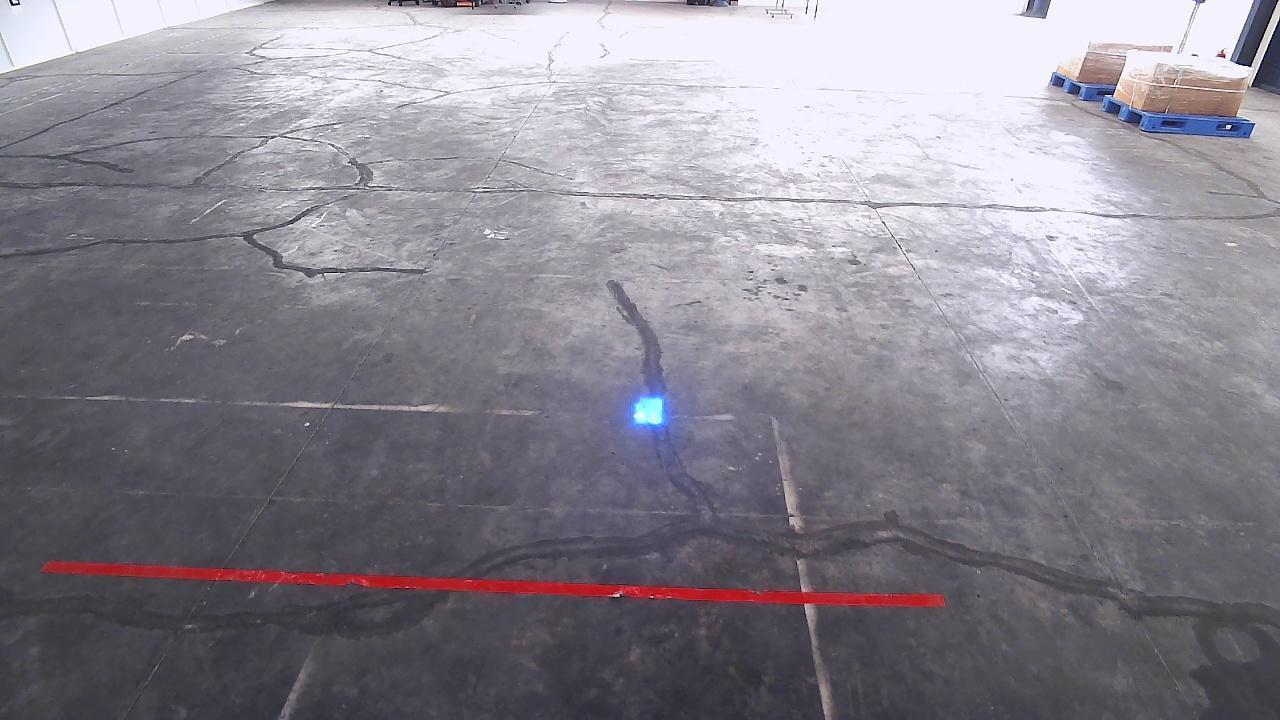red_line: (39, 558, 947, 606)
